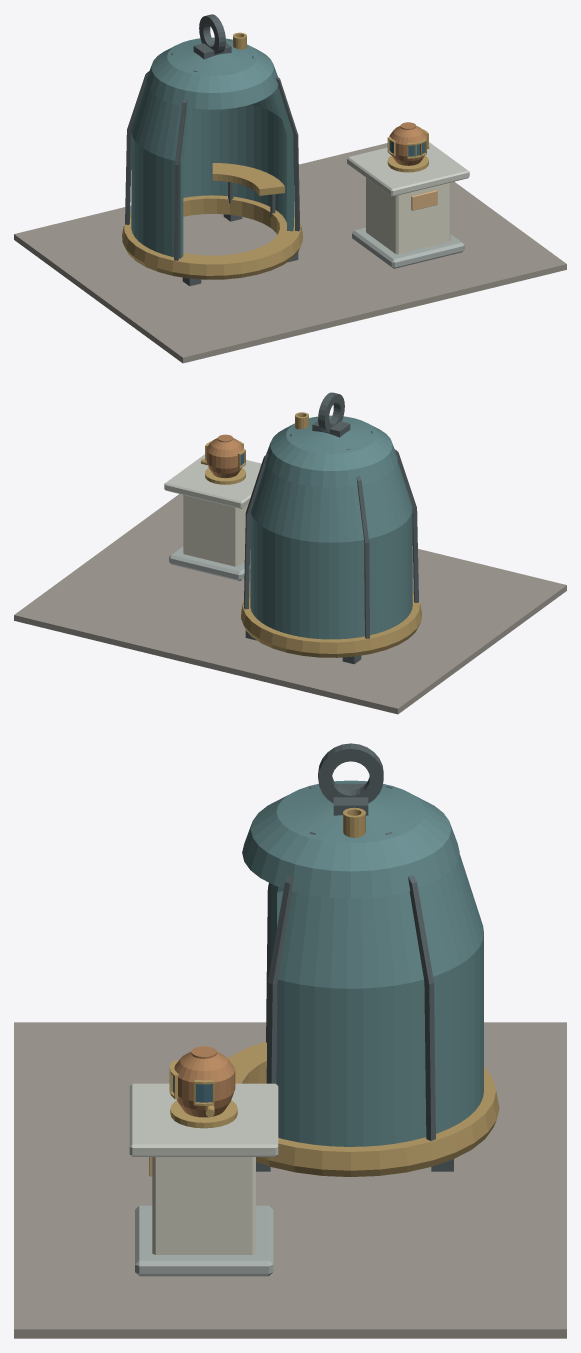
The picture shows the model from 3 angles, top to bottom: view 1: azimuth 30°, elevation 25°; view 2: azimuth 150°, elevation 25°; view 3: azimuth 270°, elevation 25°; orthographic projection. The views are drawn at different scales.
Visible parts, largest first — view 1: SCENE_ONLY__DisplayFloor, bell__WholeFrontCutawayThickBellWall, plinth__museum-exhibit-plinth-01, bell__WholeDomedBellRoof, bell__WholeThickOpenBottomBallastRing, bell__WholeInternalCurvedSeatRight, bell__WholeExternalSuspensionStrap3, helmet__WholeHollowThreeApertureHelmetShell, bell__WholeExternalSuspensionStrap0, bell__WholeExternalSuspensionStrap2, bell__WholeTopLiftingEye; view 2: SCENE_ONLY__DisplayFloor, bell__WholeFrontCutawayThickBellWall, plinth__museum-exhibit-plinth-01, bell__WholeDomedBellRoof, bell__WholeThickOpenBottomBallastRing, helmet__WholeHollowThreeApertureHelmetShell, bell__WholeExternalSuspensionStrap2, bell__WholeExternalSuspensionStrap1, bell__WholeExternalSuspensionStrap3, bell__WholeTopLiftingEye; view 3: SCENE_ONLY__DisplayFloor, bell__WholeFrontCutawayThickBellWall, plinth__museum-exhibit-plinth-01, bell__WholeDomedBellRoof, bell__WholeThickOpenBottomBallastRing, bell__WholeExternalSuspensionStrap1, helmet__WholeHollowThreeApertureHelmetShell, bell__WholeTopLiftingEye, bell__WholeExternalSuspensionStrap0, helmet__WholeOpenNeckFlange.
Part boxes in pixels (x1=…): SCENE_ONLY__DisplayFloor: x1=14, y1=143, x2=566, y2=363; bell__WholeFrontCutawayThickBellWall: x1=131, y1=83, x2=293, y2=258; plinth__museum-exhibit-plinth-01: x1=347, y1=142, x2=469, y2=268; bell__WholeDomedBellRoof: x1=146, y1=37, x2=278, y2=109; bell__WholeThickOpenBottomBallastRing: x1=122, y1=195, x2=302, y2=279; bell__WholeInternalCurvedSeatRight: x1=212, y1=163, x2=284, y2=195; bell__WholeExternalSuspensionStrap3: x1=174, y1=70, x2=197, y2=260; helmet__WholeHollowThreeApertureHelmetShell: x1=389, y1=125, x2=427, y2=165; bell__WholeExternalSuspensionStrap0: x1=252, y1=56, x2=300, y2=231; bell__WholeExternalSuspensionStrap2: x1=125, y1=53, x2=172, y2=224; bell__WholeTopLiftingEye: x1=199, y1=14, x2=225, y2=54; SCENE_ONLY__DisplayFloor: x1=14, y1=494, x2=566, y2=714; bell__WholeFrontCutawayThickBellWall: x1=250, y1=461, x2=412, y2=639; plinth__museum-exhibit-plinth-01: x1=164, y1=454, x2=261, y2=581; bell__WholeDomedBellRoof: x1=265, y1=415, x2=397, y2=487; bell__WholeThickOpenBottomBallastRing: x1=241, y1=591, x2=421, y2=657; helmet__WholeHollowThreeApertureHelmetShell: x1=206, y1=438, x2=244, y2=478; bell__WholeExternalSuspensionStrap2: x1=346, y1=448, x2=369, y2=638; bell__WholeExternalSuspensionStrap1: x1=243, y1=434, x2=291, y2=609; bell__WholeExternalSuspensionStrap3: x1=371, y1=431, x2=418, y2=602; bell__WholeTopLiftingEye: x1=318, y1=392, x2=344, y2=432; SCENE_ONLY__DisplayFloor: x1=14, y1=1022, x2=566, y2=1338; bell__WholeFrontCutawayThickBellWall: x1=271, y1=854, x2=483, y2=1146; plinth__museum-exhibit-plinth-01: x1=129, y1=1083, x2=278, y2=1276; bell__WholeDomedBellRoof: x1=242, y1=780, x2=459, y2=898; bell__WholeThickOpenBottomBallastRing: x1=228, y1=1041, x2=499, y2=1176; bell__WholeExternalSuspensionStrap1: x1=386, y1=832, x2=435, y2=1140; helmet__WholeHollowThreeApertureHelmetShell: x1=174, y1=1051, x2=235, y2=1117; bell__WholeTopLiftingEye: x1=318, y1=743, x2=383, y2=803; bell__WholeExternalSuspensionStrap0: x1=266, y1=832, x2=315, y2=1083; helmet__WholeOpenNeckFlange: x1=170, y1=1100, x2=237, y2=1128.
Bounding box in the file's own units: 4.2 × 2.5 × 3.2.
